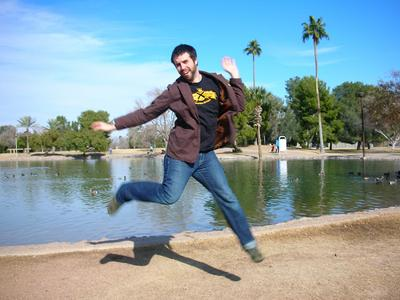person: (92, 39, 267, 262)
